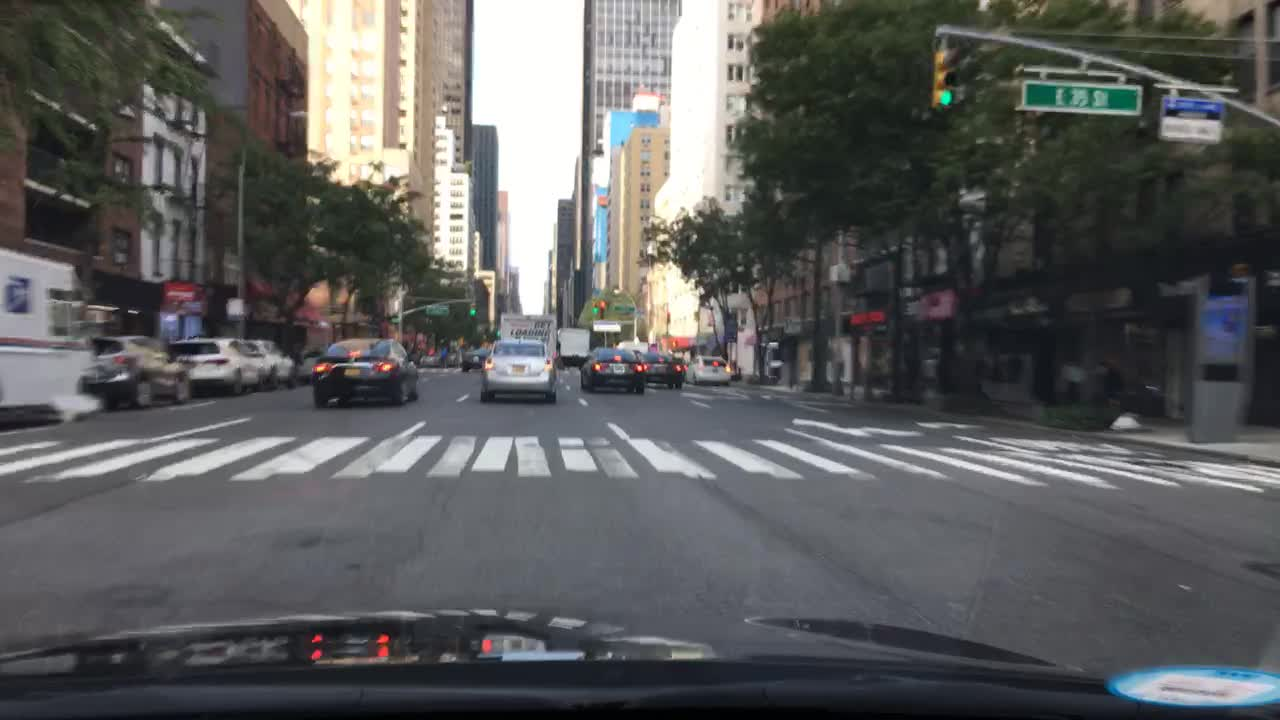car: (76, 330, 190, 411), (314, 336, 421, 406), (174, 336, 267, 395), (481, 339, 557, 406), (249, 339, 300, 391), (580, 351, 641, 394), (638, 351, 686, 386), (685, 353, 731, 388), (298, 346, 328, 381), (460, 346, 490, 371), (417, 346, 442, 368), (618, 340, 646, 353)
person: (1096, 363, 1126, 410), (1060, 356, 1080, 408), (436, 340, 447, 371)
traffic light: (933, 51, 957, 114), (596, 299, 606, 319), (466, 301, 476, 320), (592, 299, 598, 316)
traffic sign: (1020, 78, 1141, 114), (1157, 97, 1229, 147), (163, 278, 199, 299), (421, 303, 451, 316), (595, 324, 621, 334), (611, 304, 635, 311), (389, 315, 399, 324)
truck: (2, 247, 91, 421), (499, 311, 556, 359), (557, 326, 591, 368)
